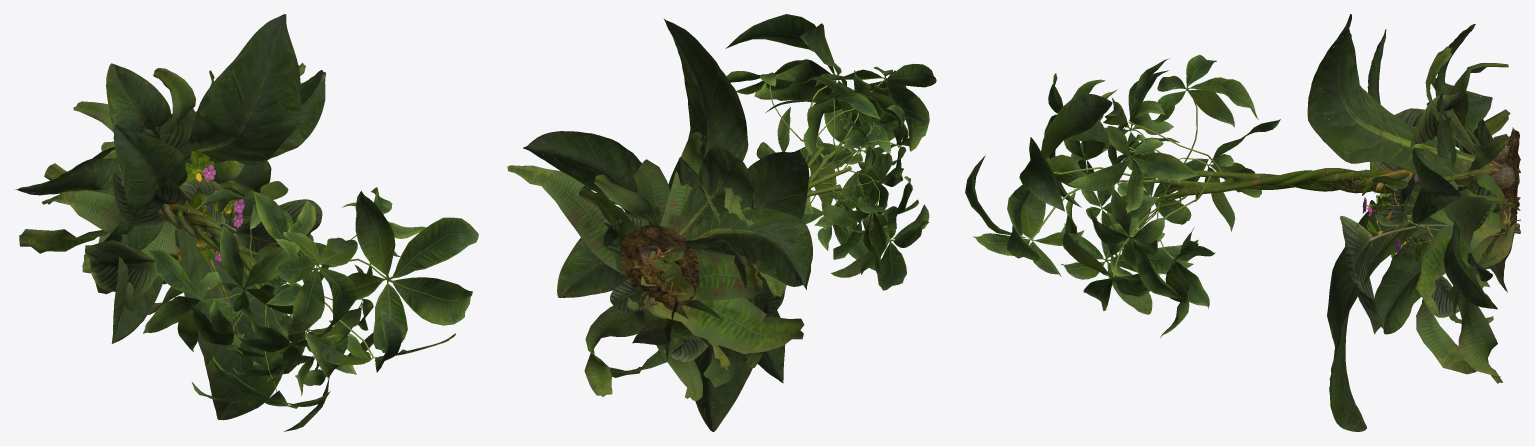
Rendered from bitkiler.glb.
The picture shows the model from 3 angles, left to right: view 1: azimuth 30°, elevation 25°; view 2: azimuth 150°, elevation 25°; view 3: azimuth 270°, elevation 25°; orthographic projection. The views are drawn at different scales.
Parts seen in each view (by area): view 1: pachira, antoryum_a, egrelti, kalatya, antoryum_c, menekse; view 2: pachira, antoryum_a, egrelti, antoryum_c, kalatya; view 3: pachira, antoryum_a, egrelti, kalatya, antoryum_c, menekse.
Part boxes in pixels (bbox=[...]): pachira: bbox=[143, 181, 478, 431]; antoryum_a: bbox=[14, 14, 326, 420]; egrelti: bbox=[19, 62, 305, 321]; kalatya: bbox=[85, 112, 322, 296]; antoryum_c: bbox=[111, 108, 251, 343]; menekse: bbox=[169, 151, 244, 265]; pachira: bbox=[620, 14, 936, 306]; antoryum_a: bbox=[523, 18, 812, 431]; egrelti: bbox=[507, 131, 804, 400]; antoryum_c: bbox=[606, 149, 809, 383]; kalatya: bbox=[603, 173, 784, 361]; pachira: bbox=[965, 54, 1520, 337]; antoryum_a: bbox=[1307, 14, 1520, 431]; egrelti: bbox=[1372, 46, 1520, 383]; kalatya: bbox=[1340, 91, 1520, 334]; antoryum_c: bbox=[1367, 29, 1520, 334]; menekse: bbox=[1351, 151, 1520, 260].
Size of the model in its own units: 896 by 1142 by 1302.
6 materials, 6 textured.
